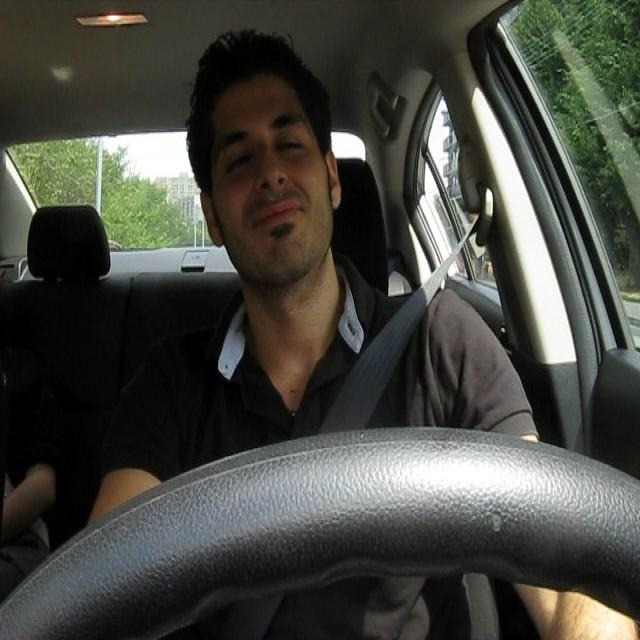Eyeclosed: (275, 128, 302, 164), (224, 145, 249, 179)
